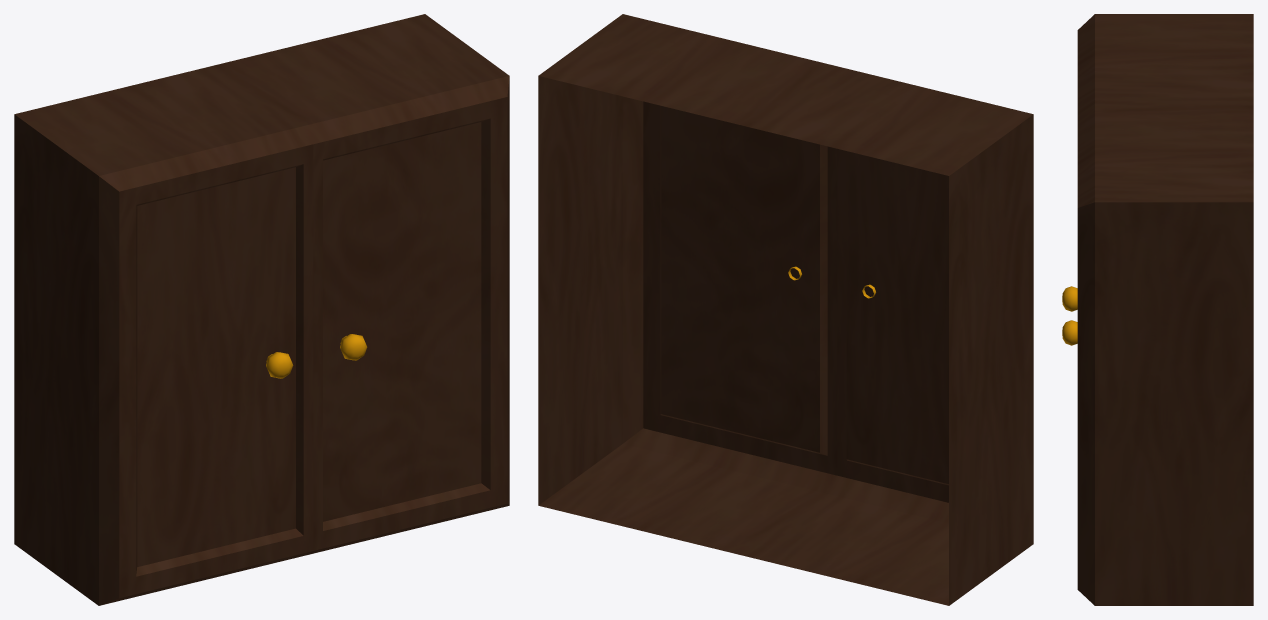
The model's file is Wall Cabinet.FBX.
The picture shows the model from 3 angles, left to right: view 1: azimuth 30°, elevation 25°; view 2: azimuth 150°, elevation 25°; view 3: azimuth 270°, elevation 25°; orthographic projection. The views are drawn at different scales.
Visible parts, largest first — view 1: Cabinet; view 2: Cabinet; view 3: Cabinet.
Part boxes in pixels (bbox=[...]): Cabinet: bbox=[14, 14, 509, 605]; Cabinet: bbox=[538, 14, 1033, 605]; Cabinet: bbox=[1062, 14, 1253, 605].
Size of the model in its own units: 76 by 76 by 32.63.
Materials: 1 (1 with a texture image).
